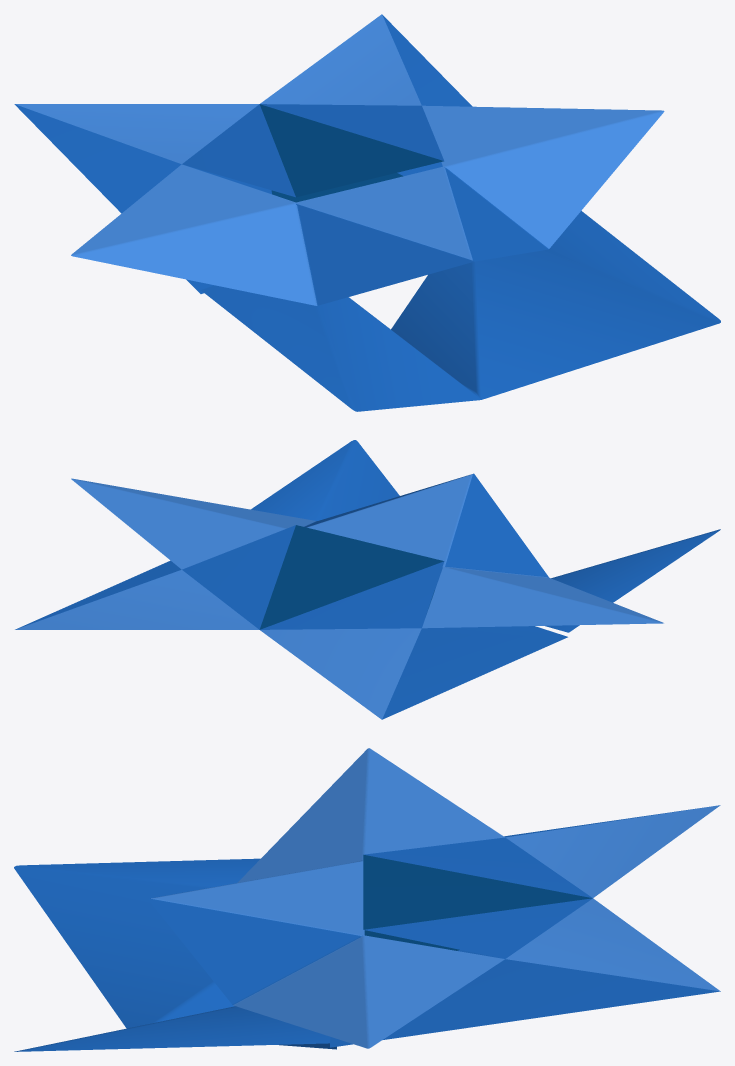
File: Star.gltf
The picture shows the model from 3 angles, top to bottom: view 1: azimuth 30°, elevation 25°; view 2: azimuth 150°, elevation 25°; view 3: azimuth 270°, elevation 25°; orthographic projection. The views are drawn at different scales.
Visible parts, largest first — view 1: Star.002, Star.004, Star.003; view 2: Star.003, Star.002, Star.004; view 3: Star.002, Star.003, Star.004.
Part boxes in pixels (x1,y1,x2,y2): Star.002: (71,105,664,305); Star.004: (201,211,720,411); Star.003: (14,14,472,293); Star.003: (15,525,567,719); Star.002: (71,473,663,628); Star.004: (251,440,720,632); Star.002: (148,748,504,1048); Star.003: (330,805,720,1047); Star.004: (14,858,336,1051).
Size of the model in its own units: 2.98 by 0.7263 by 2.96.
